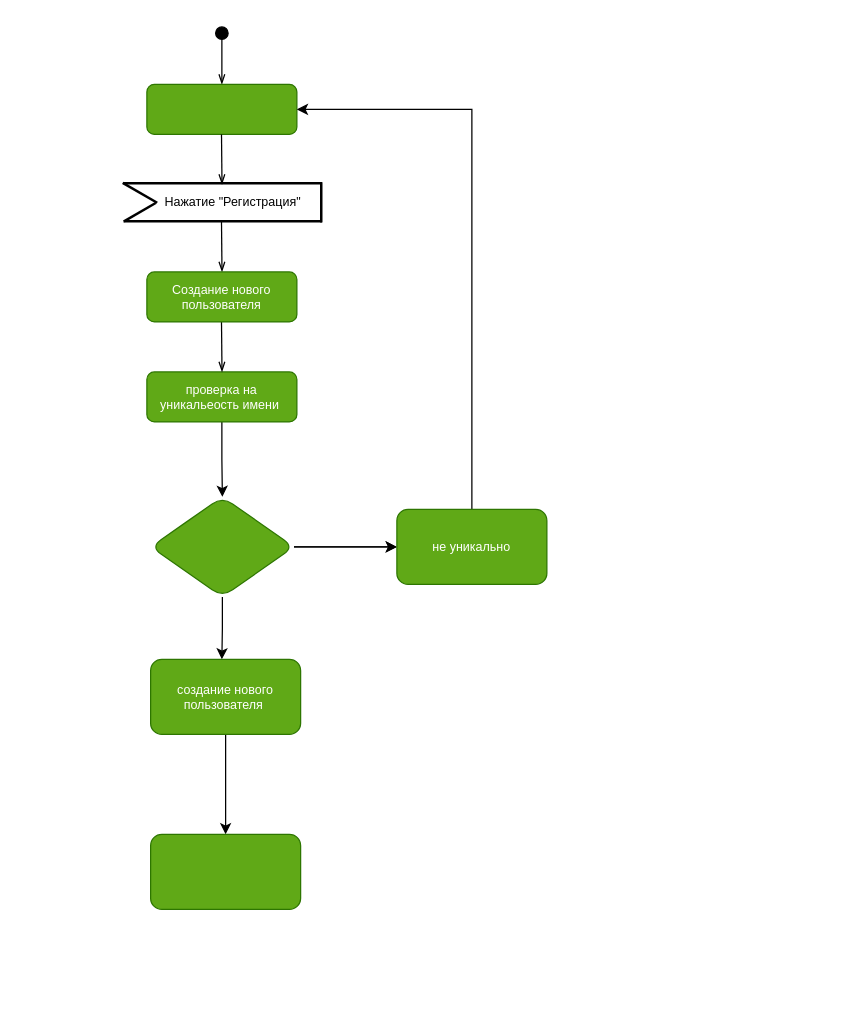
Image size: 855x1018. Some labels were removed from this diagram. The shapes that lost their labels are listed below. From the top down, each one's centre as x and y in pixels, then its label:
At point 221,108: "Отображение окна регистрации".
At point 225,871: "перемещение к выбранному пользователем месту".
